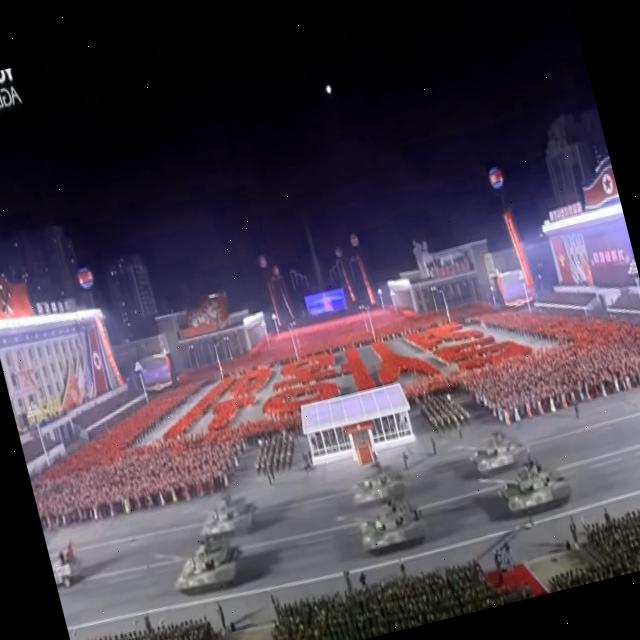north tank: (479, 452, 573, 546), (157, 532, 250, 612), (342, 493, 432, 570), (332, 456, 412, 530), (448, 422, 528, 494), (188, 482, 266, 552)
